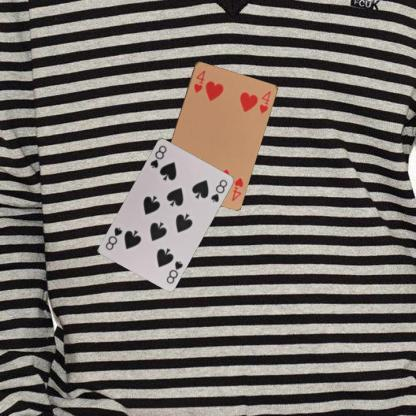4h: (191, 67, 207, 94), (229, 174, 244, 202)
8s: (147, 143, 168, 169), (164, 258, 184, 285)
